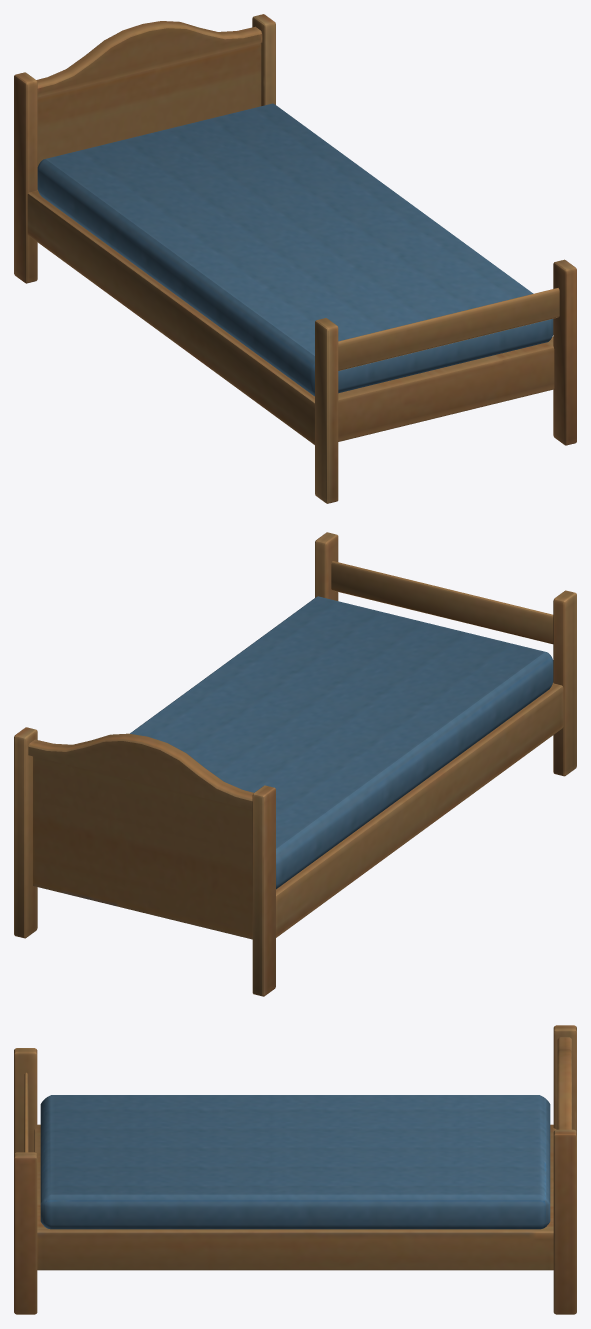
Rendered from single_bed_2.fbx.
The picture shows the model from 3 angles, top to bottom: view 1: azimuth 30°, elevation 25°; view 2: azimuth 150°, elevation 25°; view 3: azimuth 270°, elevation 25°; orthographic projection. The views are drawn at different scales.
Parts seen in each view (by area): view 1: single_bed_2; view 2: single_bed_2; view 3: single_bed_2.
Boxes of the visible parts, x1,y1,x2,y2 form: single_bed_2: (14, 14, 576, 503); single_bed_2: (14, 532, 576, 996); single_bed_2: (14, 1025, 576, 1314).
Bounding box in the file's own units: 1.14 × 0.9731 × 2.47.
